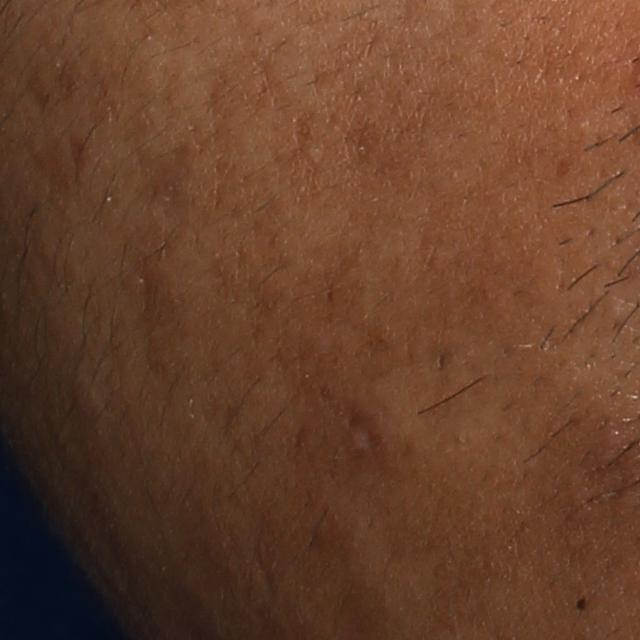nevus: (569, 592, 587, 613)
